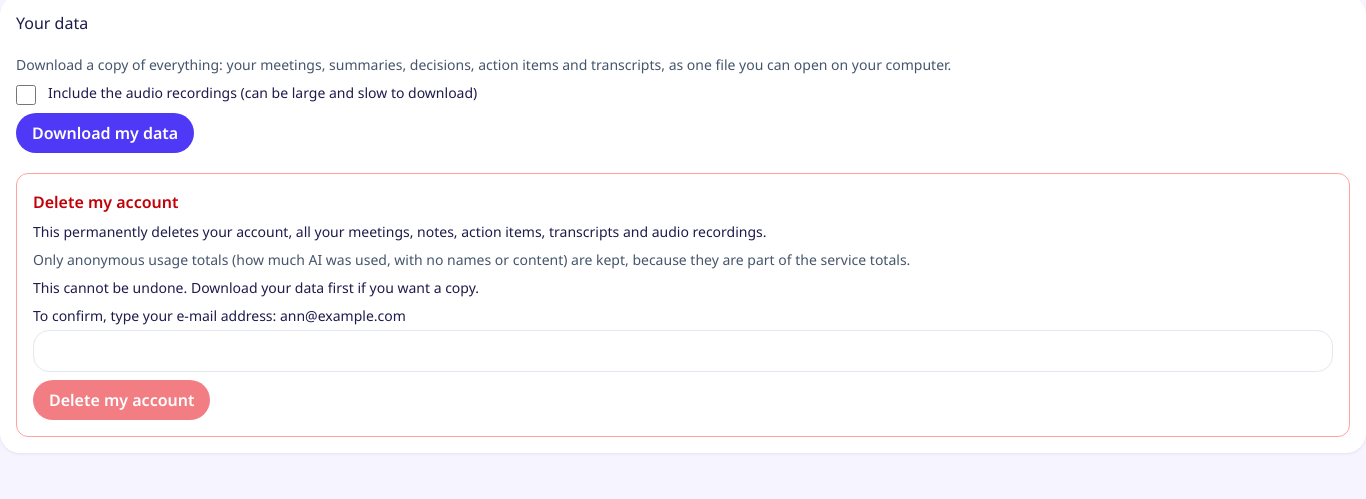
it: export › downloads the file and says how many meetings it holds
Click the button "Download my data" at (105, 133), box [16,113,194,153]
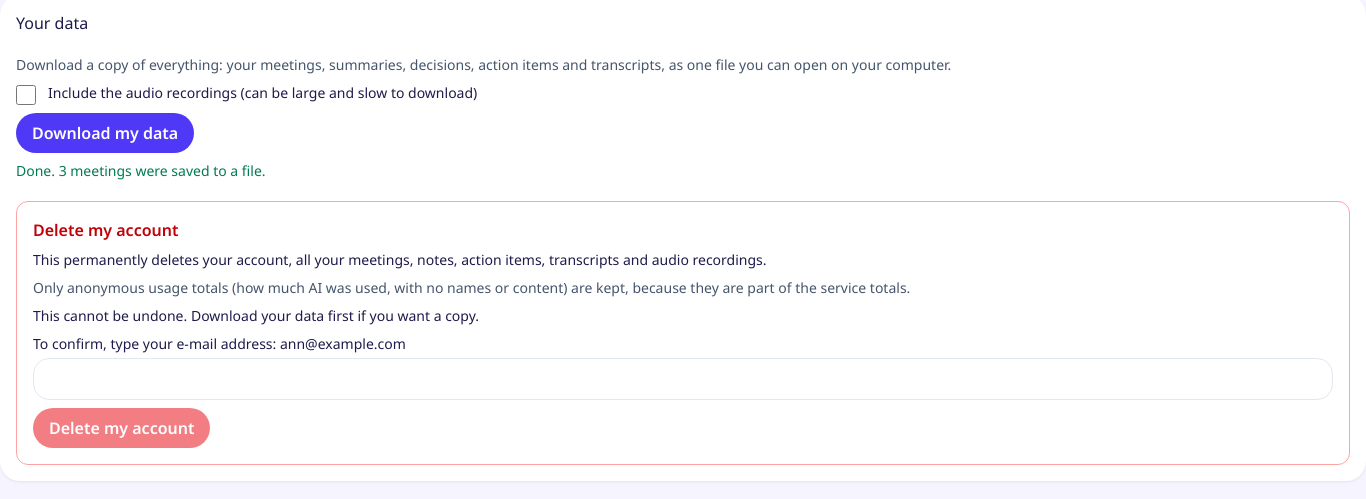
Result: the text "Done. 3 meetings were saved to a file." is shown at [16,161,266,180]
